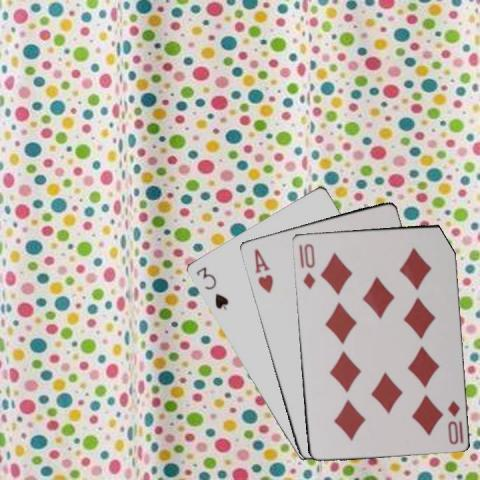10d: (444, 397, 465, 446), (300, 241, 317, 290)
3s: (192, 264, 229, 312)
Ah: (251, 245, 274, 294)
